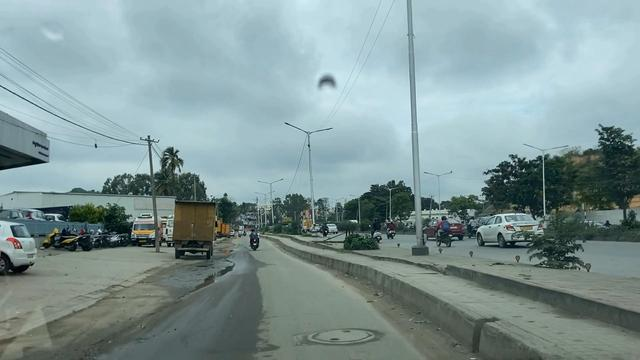RoadDamages: (292, 322, 389, 353)
